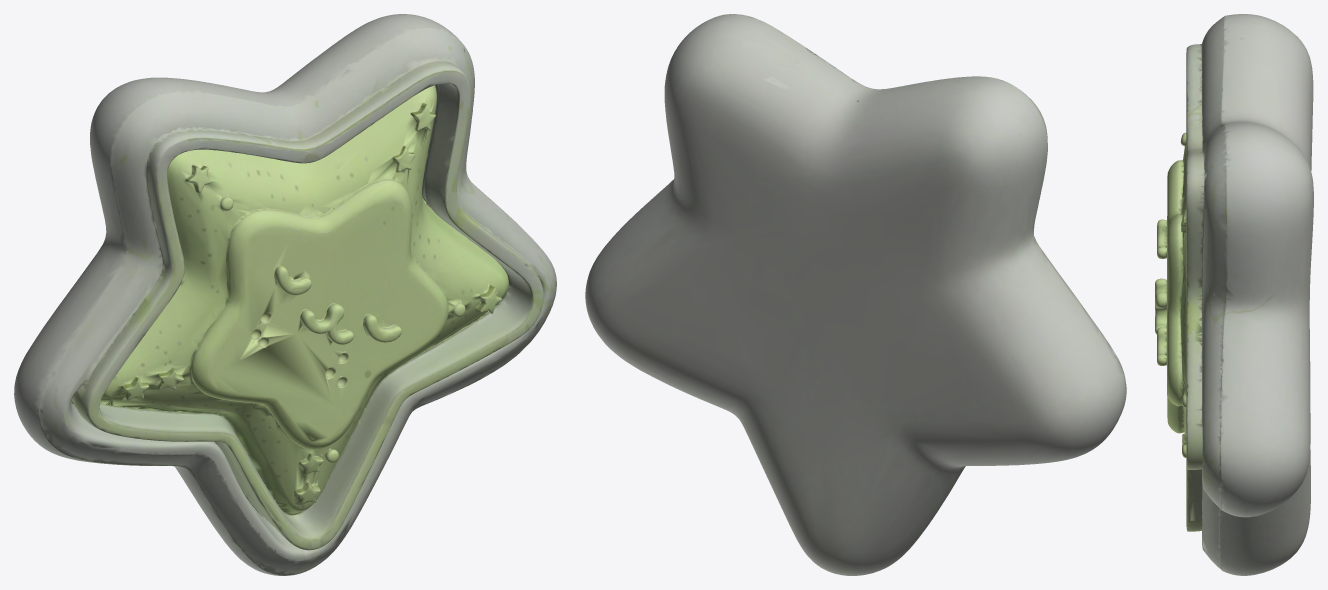
File: charm-star.glb
3 views of the same model, side by side, from view 1: azimuth 30°, elevation 25°; view 2: azimuth 150°, elevation 25°; view 3: azimuth 270°, elevation 25° (orthographic). The views are drawn at different scales.
Bounding box in the file's own units: 1.09 × 1.04 × 0.3041.
1 material, 1 textured.
